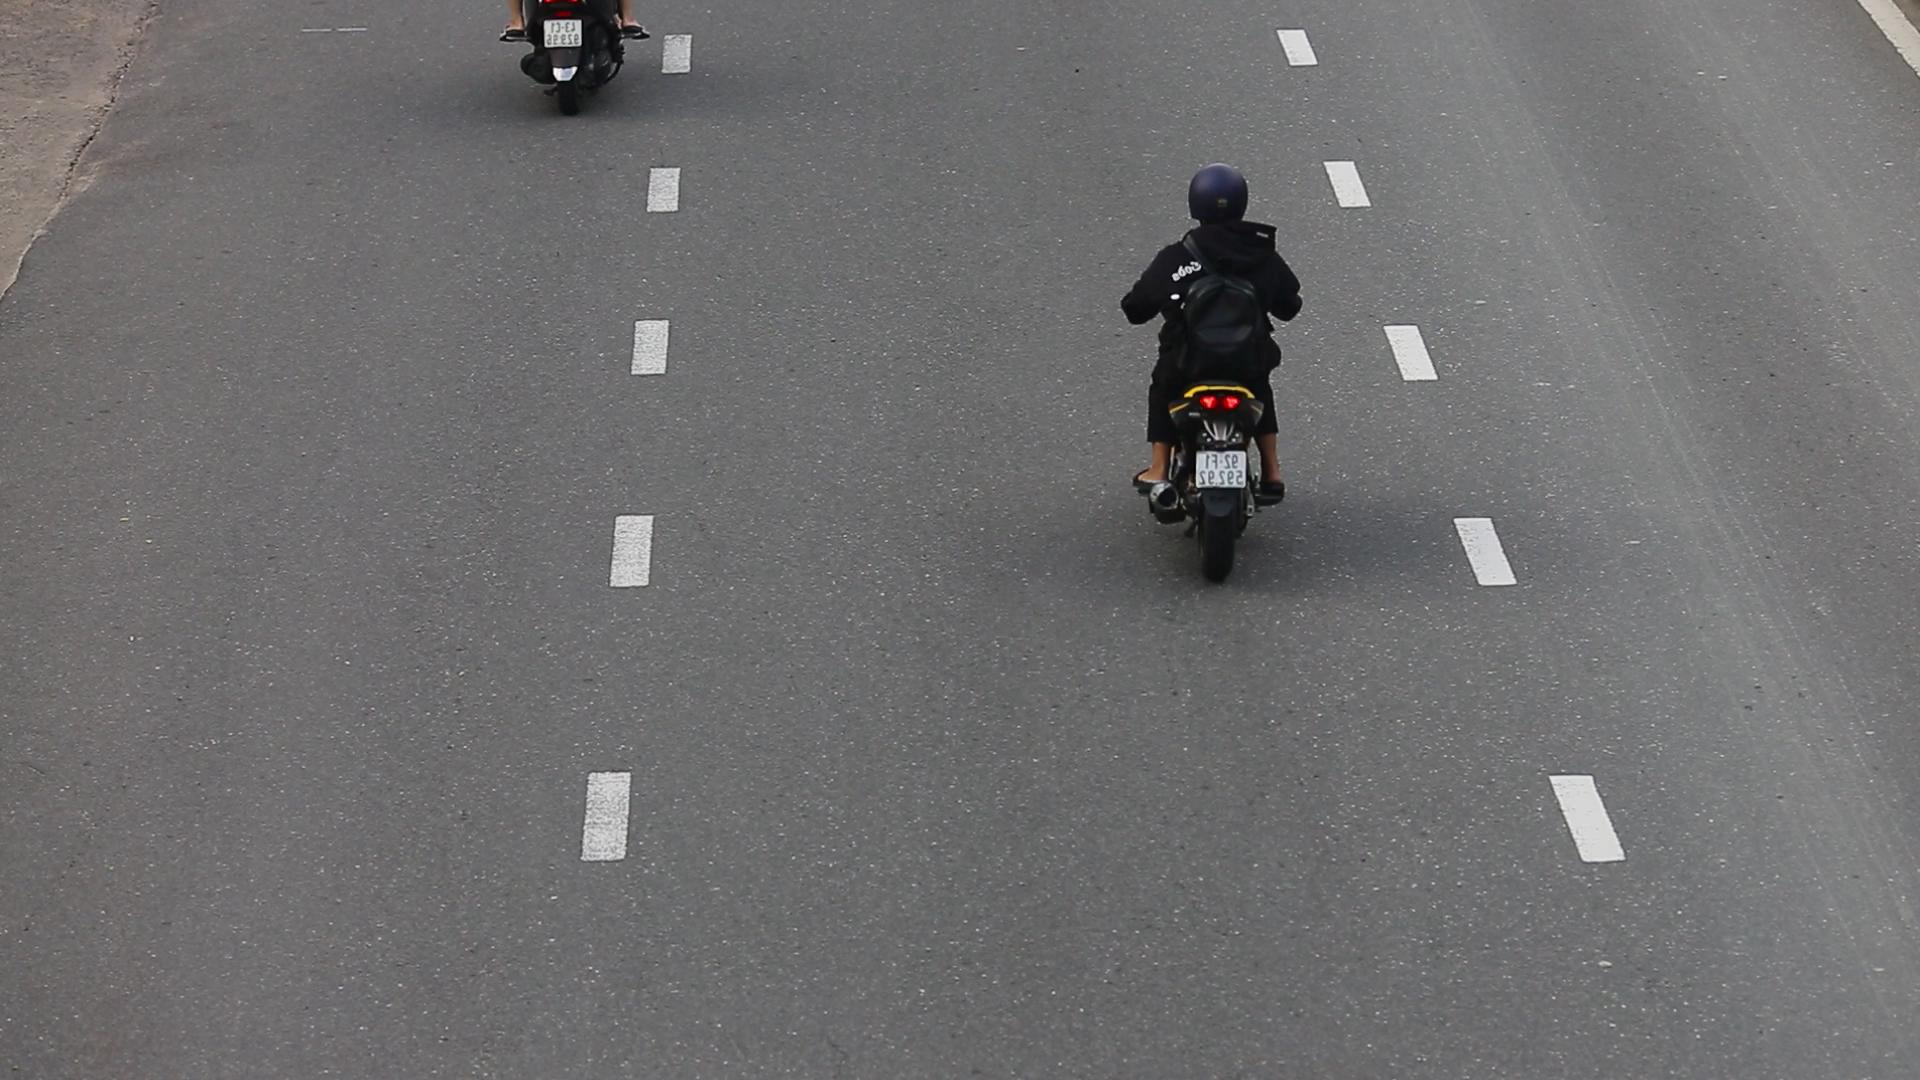motobike: (1117, 158, 1311, 587)
